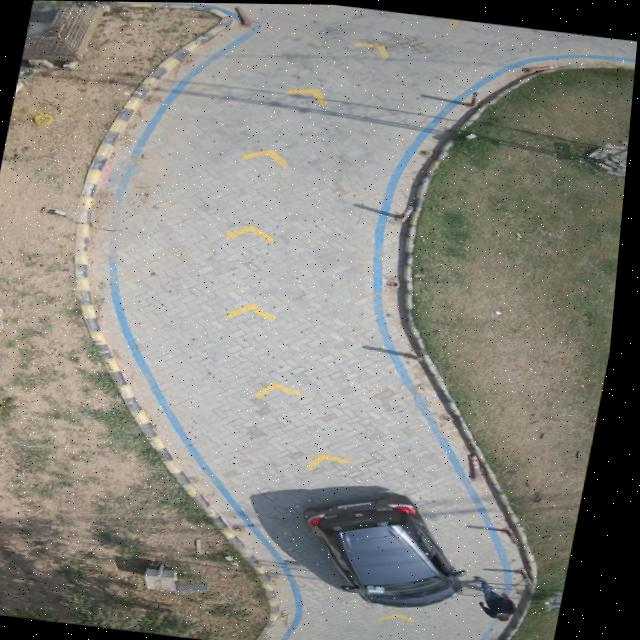car: (314, 491, 474, 607)
